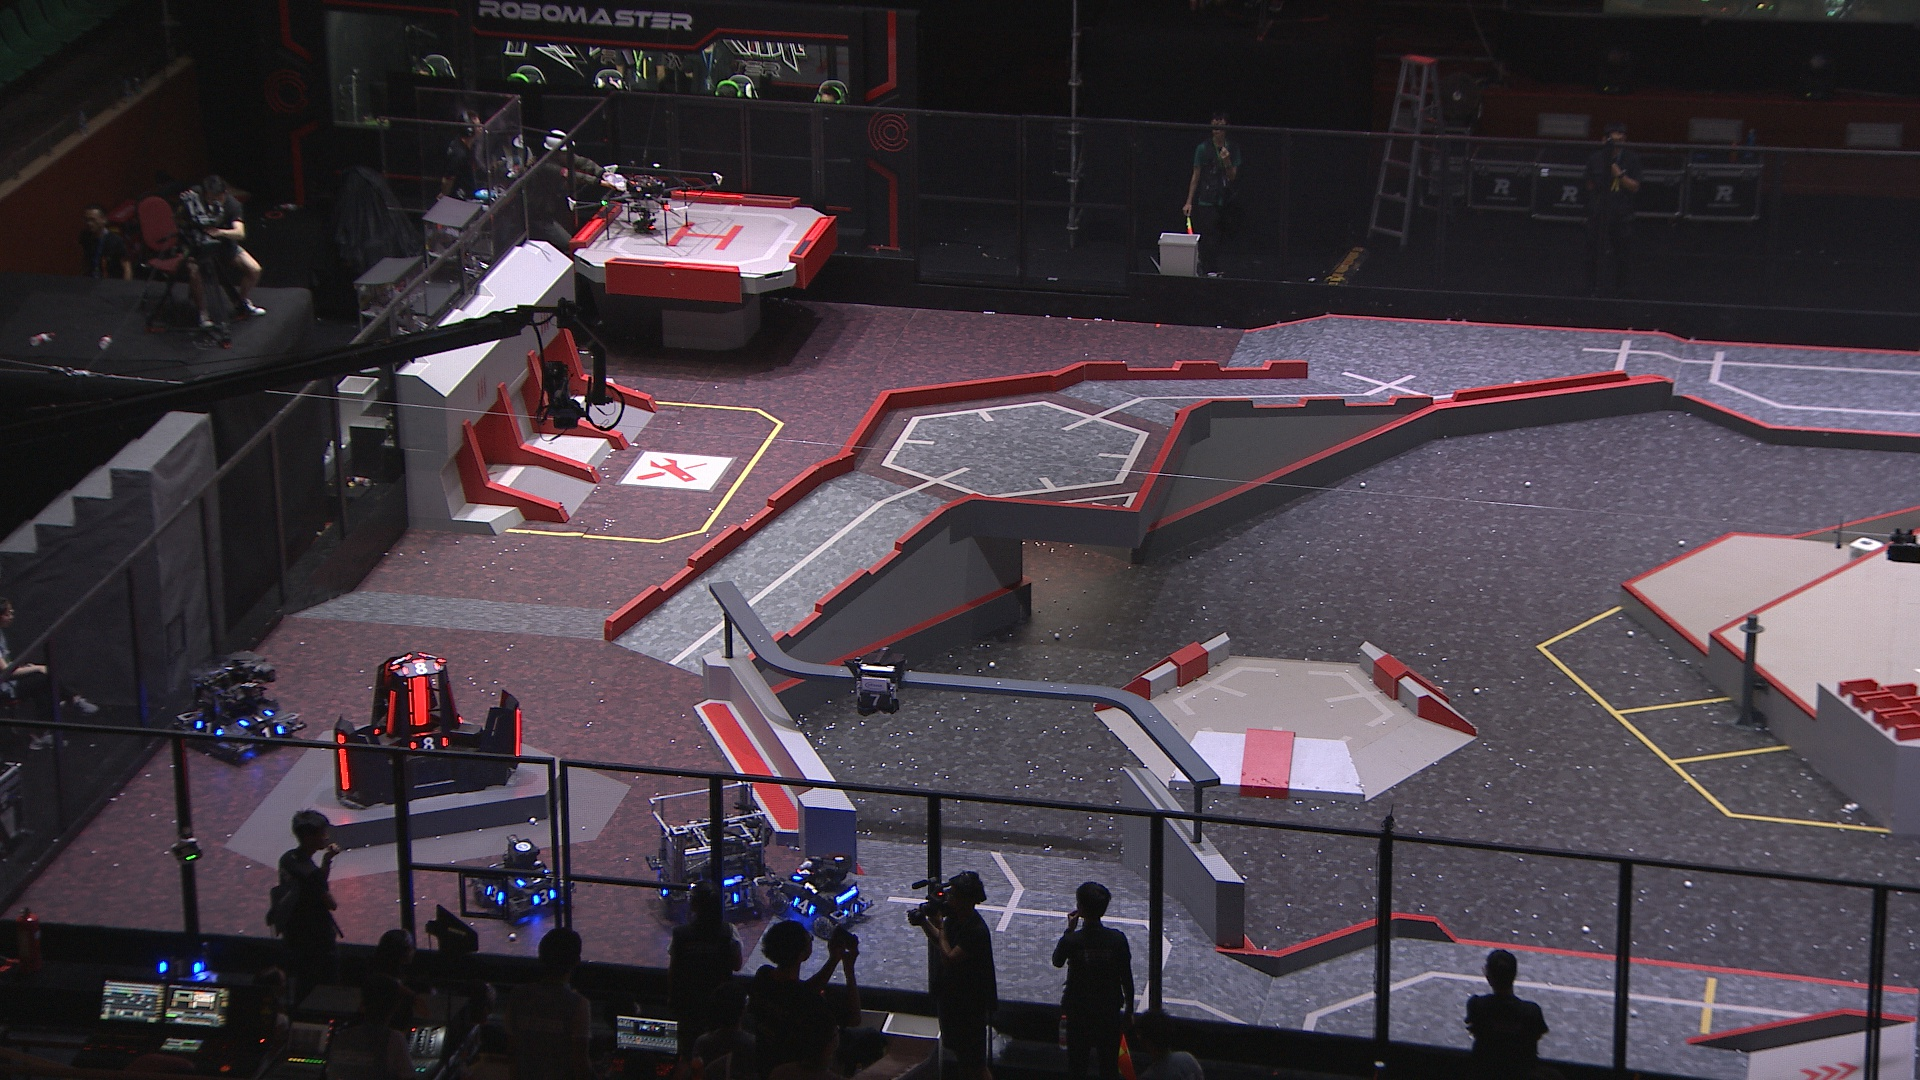armor: (406, 676, 429, 727), (334, 733, 352, 793), (406, 735, 451, 754), (855, 688, 894, 709), (398, 659, 443, 675), (239, 708, 273, 727), (512, 707, 524, 760), (386, 690, 398, 738), (193, 717, 225, 735), (529, 889, 556, 909), (793, 895, 818, 916), (484, 884, 505, 905), (719, 887, 741, 907), (789, 866, 812, 884), (258, 725, 285, 740), (840, 901, 860, 918)
base: (330, 650, 527, 808)
car: (645, 782, 773, 927), (174, 654, 309, 761), (766, 851, 873, 943), (469, 833, 571, 924)
watcher: (847, 646, 909, 717)
